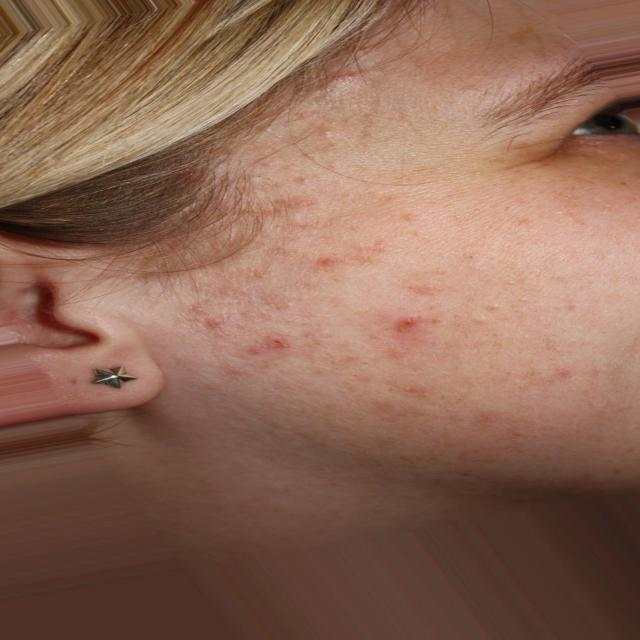acne: (330, 378, 534, 444), (183, 254, 309, 320), (288, 228, 387, 302), (336, 316, 462, 368), (264, 184, 363, 236), (222, 320, 309, 374), (129, 298, 234, 340)
